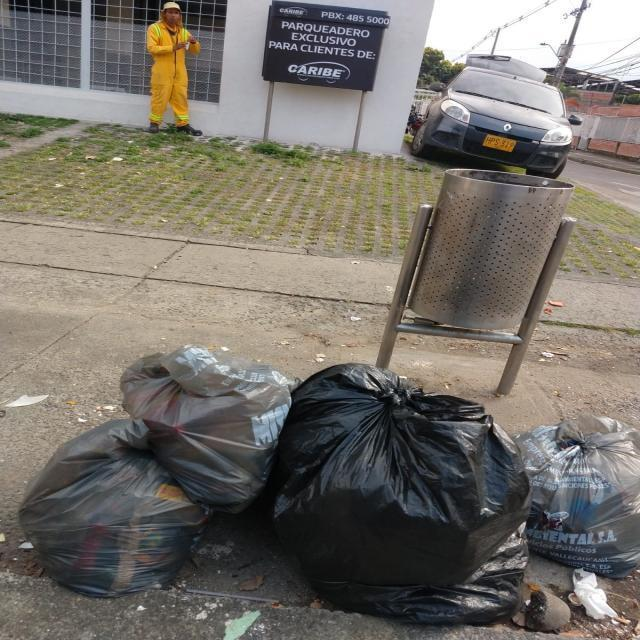Trashbag: (268, 356, 532, 620), (124, 347, 289, 509), (508, 410, 640, 583), (27, 460, 176, 600)
